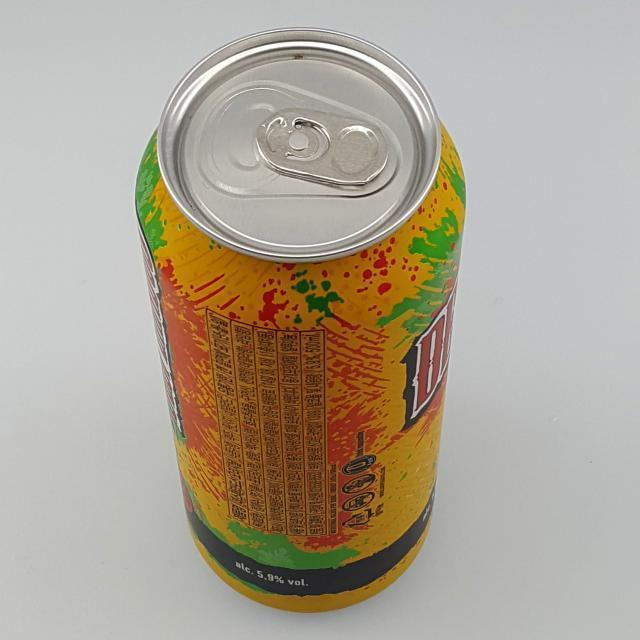can: (126, 21, 470, 618)
